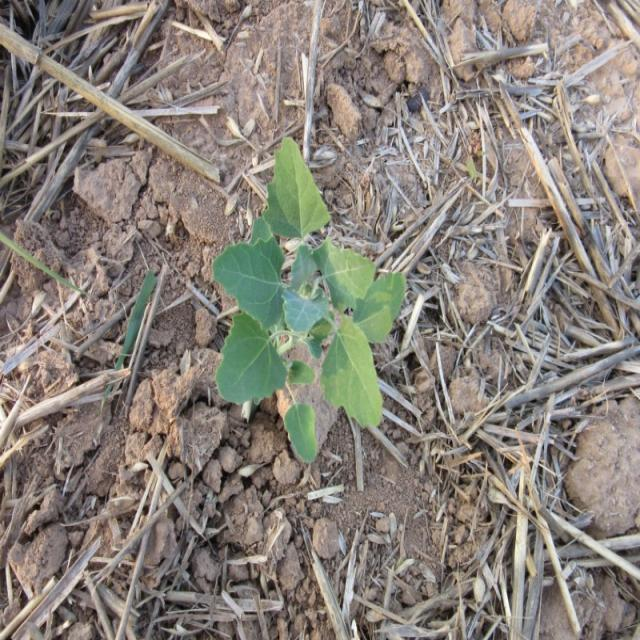ca: (214, 134, 404, 469)
